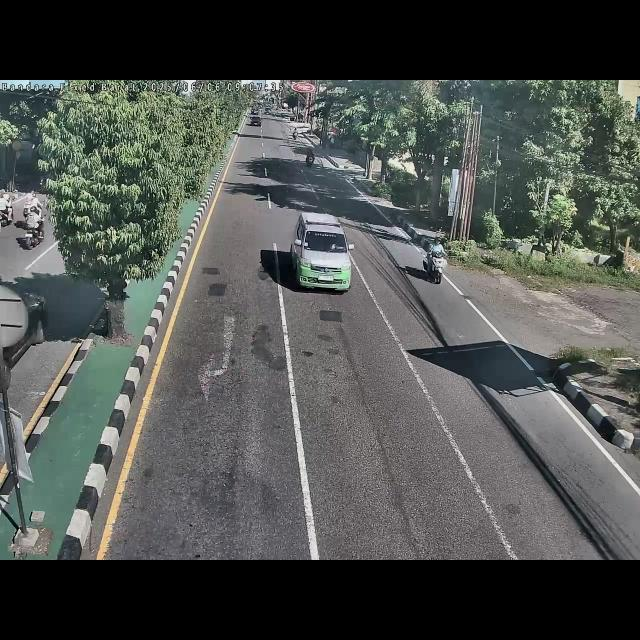Mobil: (291, 209, 359, 297)
Motor: (424, 232, 451, 294)
